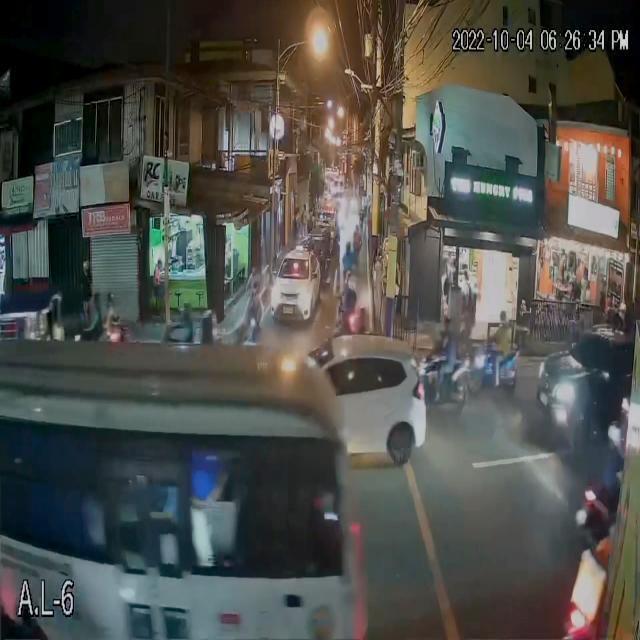Full-Faced: (344, 269, 359, 296), (495, 308, 510, 328), (444, 312, 454, 334), (344, 237, 354, 257)
